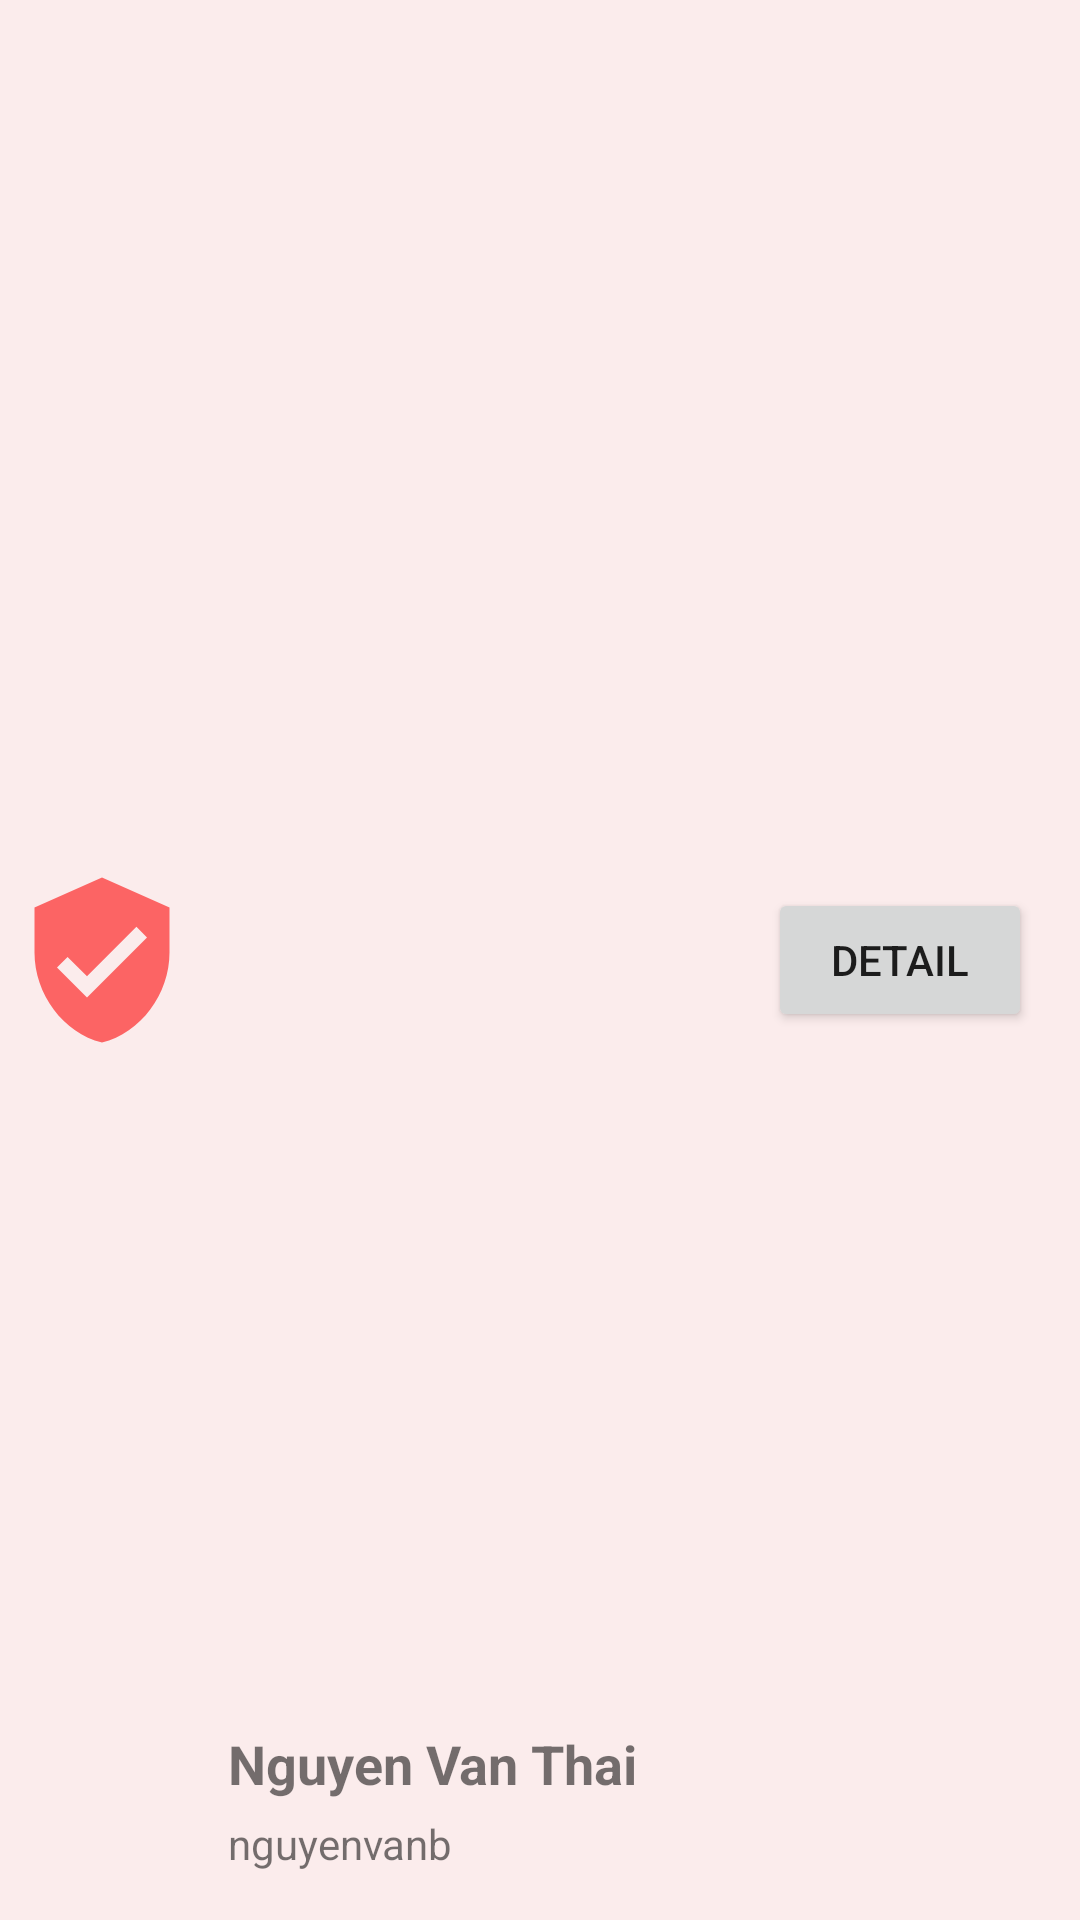

Point at icon controls on the screen. Image size 1080w x 1920h, points as point (x, y).
verified user: point (102, 960)
